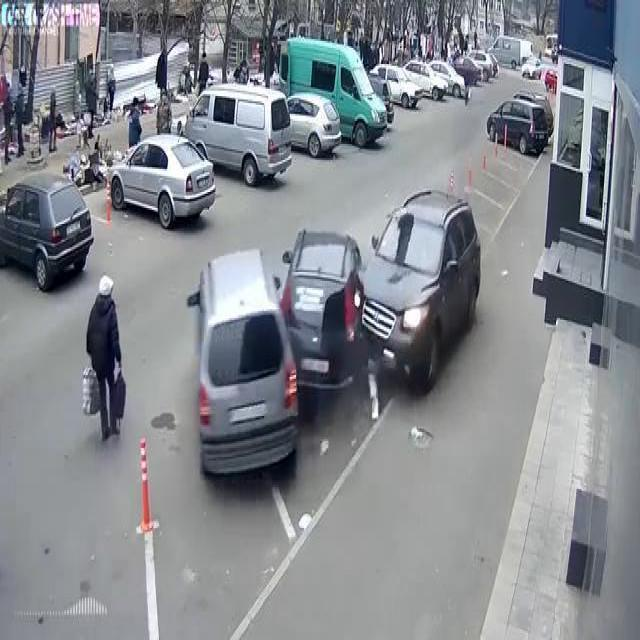accident: (175, 236, 376, 462), (282, 183, 457, 392)
